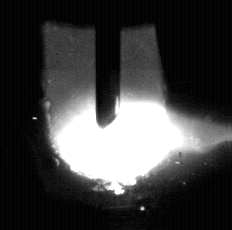arame: (96, 0, 121, 129)
poca: (54, 0, 186, 230)
